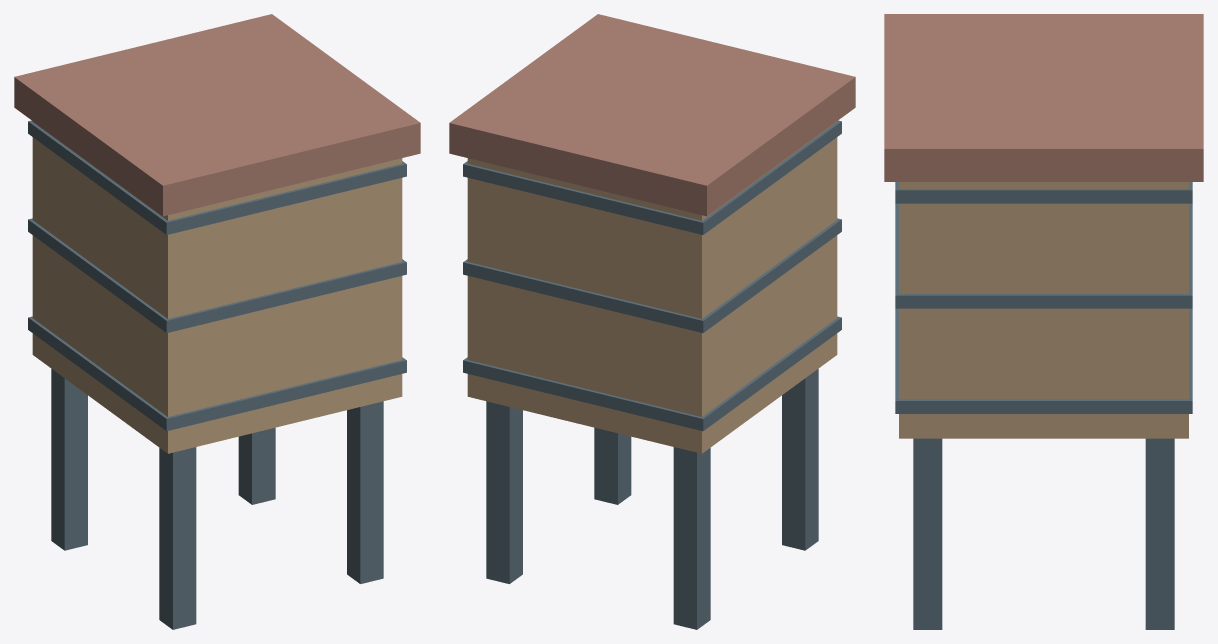
The model's file is voxel-city-districts-water-tank-b3c273a1__24918.glb.
The picture shows the model from 3 angles, left to right: view 1: azimuth 30°, elevation 25°; view 2: azimuth 150°, elevation 25°; view 3: azimuth 270°, elevation 25°; orthographic projection. The views are drawn at different scales.
Parts seen in each view (by area): view 1: water-tank-wood, water-tank-roof, water-tank-dark; view 2: water-tank-wood, water-tank-roof, water-tank-dark; view 3: water-tank-wood, water-tank-roof, water-tank-dark.
Boxes of the visible parts, x1,y1,x2,y2 form: water-tank-wood: [32, 121, 402, 453]; water-tank-roof: [14, 14, 420, 216]; water-tank-dark: [28, 120, 406, 629]; water-tank-wood: [467, 121, 837, 453]; water-tank-roof: [449, 14, 855, 216]; water-tank-dark: [463, 120, 841, 629]; water-tank-wood: [899, 182, 1188, 438]; water-tank-roof: [884, 14, 1203, 181]; water-tank-dark: [895, 182, 1192, 629].
Bounding box in the file's own units: 2.2 × 3.75 × 2.2.
